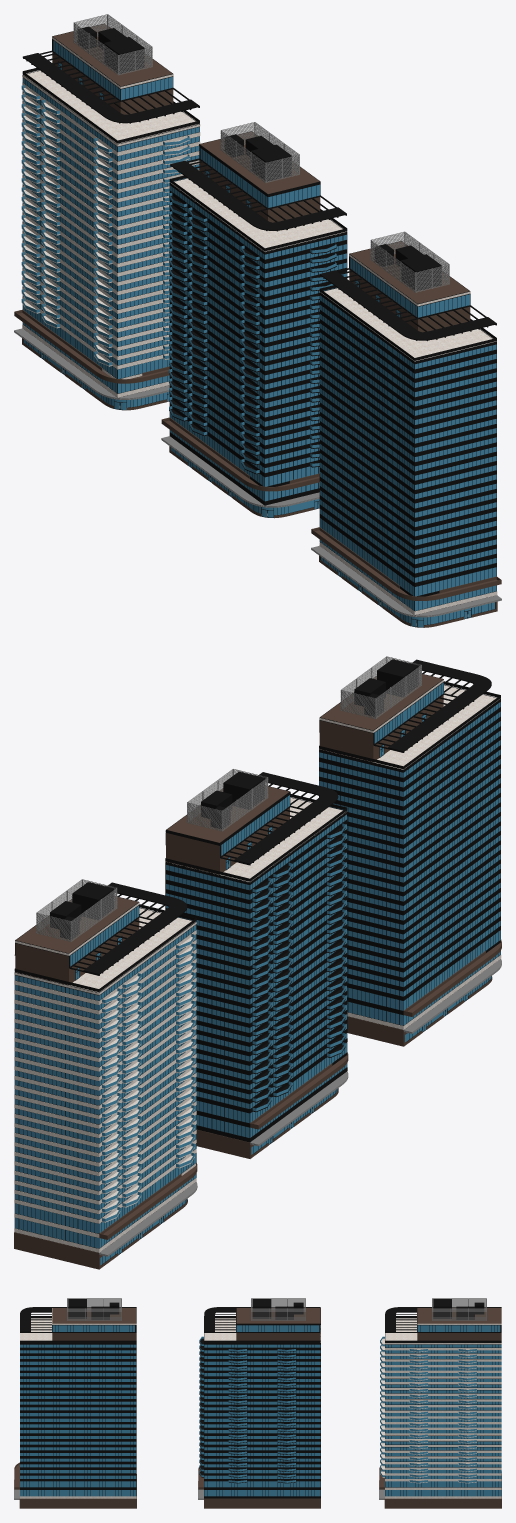
File: bUILDING-2-FINAL.FBX
3 views of the same model, one above another, from view 1: azimuth 30°, elevation 25°; view 2: azimuth 150°, elevation 25°; view 3: azimuth 270°, elevation 25° (orthographic). The views are drawn at different scales.
Parts seen in each view (by area): view 1: BUILDING-003, BUILDING-004, BUILDING-2; view 2: BUILDING-2, BUILDING-003, BUILDING-004; view 3: BUILDING-2, BUILDING-004, BUILDING-003.
Part boxes in pixels (x1,y1,x2,y2): BUILDING-003: [311, 231, 501, 627]; BUILDING-004: [161, 122, 347, 518]; BUILDING-2: [14, 14, 200, 410]; BUILDING-2: [14, 879, 197, 1269]; BUILDING-003: [319, 656, 501, 1046]; BUILDING-004: [165, 769, 348, 1158]; BUILDING-2: [379, 1298, 501, 1508]; BUILDING-004: [198, 1298, 320, 1508]; BUILDING-003: [14, 1298, 136, 1508].
Size of the model in its own units: 4119 by 12880 by 28859.
